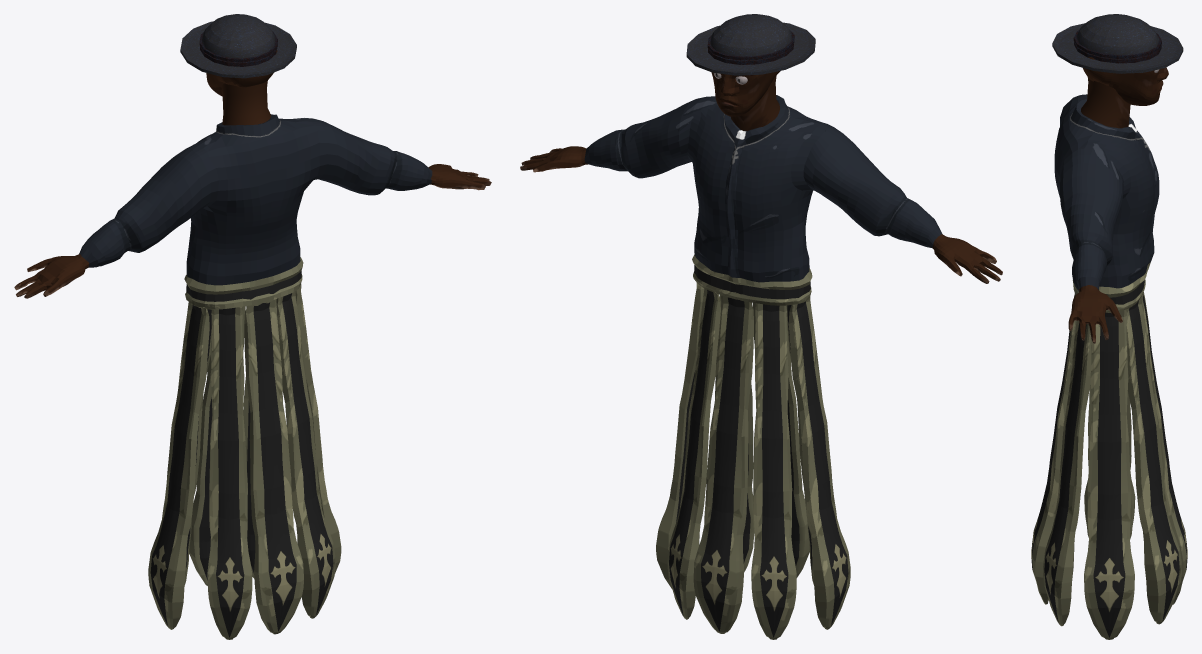
Rendered from Model_Santana.fbx.
3 views of the same model, side by side, from view 1: azimuth 30°, elevation 25°; view 2: azimuth 150°, elevation 25°; view 3: azimuth 270°, elevation 25° (orthographic).
Parts seen in each view (by area): view 1: Torso1, Tentacle_Back, Tentacle_BLeft, Tentacle_Left, Tentacle_BRight, Hat, Tentacle_Front, Hands, Tentacle_Right, Neck, Tentacle_FRight, Tentacle_FLeft (+1 smaller); view 2: Torso1, Tentacle_Front, Tentacle_FLeft, Tentacle_Left, Tentacle_FRight, Hat, Tentacle_Right, Hands, Tentacle_Back, Face, Tentacle_BRight, Neck; view 3: Torso1, Tentacle_Right, Tentacle_FRight, Tentacle_BRight, Hat, Tentacle_Back, Tentacle_Front, Face, Neck, Hands, Tentacle_Left.
Boxes of the visible parts, left/top/right/bottom form: Torso1: left=14, top=114, right=491, bottom=309; Tentacle_Back: left=244, top=299, right=303, bottom=634; Tentacle_BLeft: left=207, top=307, right=252, bottom=639; Tentacle_Left: left=148, top=302, right=209, bottom=629; Tentacle_BRight: left=276, top=291, right=335, bottom=618; Hat: left=180, top=14, right=296, bottom=78; Tentacle_Front: left=189, top=306, right=245, bottom=585; Hands: left=14, top=164, right=491, bottom=296; Tentacle_Right: left=295, top=283, right=341, bottom=573; Neck: left=222, top=80, right=271, bottom=125; Tentacle_FRight: left=243, top=299, right=276, bottom=578; Tentacle_FLeft: left=184, top=309, right=211, bottom=584; Torso1: left=520, top=95, right=1001, bottom=305; Tentacle_Front: left=693, top=295, right=753, bottom=633; Tentacle_FLeft: left=751, top=303, right=796, bottom=639; Tentacle_Left: left=788, top=297, right=850, bottom=629; Tentacle_FRight: left=667, top=288, right=720, bottom=619; Hat: left=686, top=14, right=815, bottom=75; Tentacle_Right: left=656, top=283, right=704, bottom=588; Hands: left=520, top=146, right=1002, bottom=282; Tentacle_Back: left=752, top=303, right=809, bottom=577; Face: left=711, top=71, right=780, bottom=116; Tentacle_BRight: left=719, top=295, right=754, bottom=571; Neck: left=731, top=76, right=779, bottom=130; Torso1: left=1054, top=94, right=1159, bottom=343; Tentacle_Right: left=1084, top=309, right=1134, bottom=639; Tentacle_FRight: left=1126, top=295, right=1181, bottom=624; Tentacle_BRight: left=1043, top=320, right=1091, bottom=626; Hat: left=1052, top=14, right=1183, bottom=73; Tentacle_Back: left=1031, top=293, right=1076, bottom=604; Tentacle_Front: left=1142, top=292, right=1187, bottom=604; Face: left=1083, top=54, right=1168, bottom=105; Neck: left=1081, top=77, right=1130, bottom=128; Hands: left=1068, top=285, right=1122, bottom=341; Tentacle_Left: left=1084, top=385, right=1135, bottom=539.
Size of the model in its own units: 273 by 324 by 78.58.
Materials: 7 (7 with a texture image).
